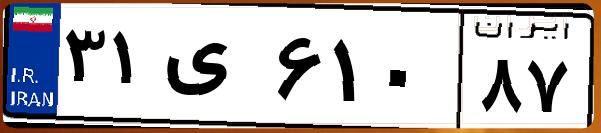0: (385, 28, 445, 110)
1: (330, 28, 385, 110), (110, 28, 158, 98)
3: (57, 26, 110, 100)
6: (270, 28, 330, 110)
7: (525, 38, 570, 115)
8: (475, 38, 525, 113)
ی: (158, 20, 270, 120)
